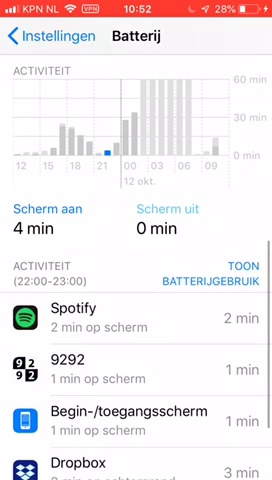activity: (8, 258, 96, 289)
app: (6, 298, 264, 339), (5, 348, 263, 389), (7, 399, 265, 440)
